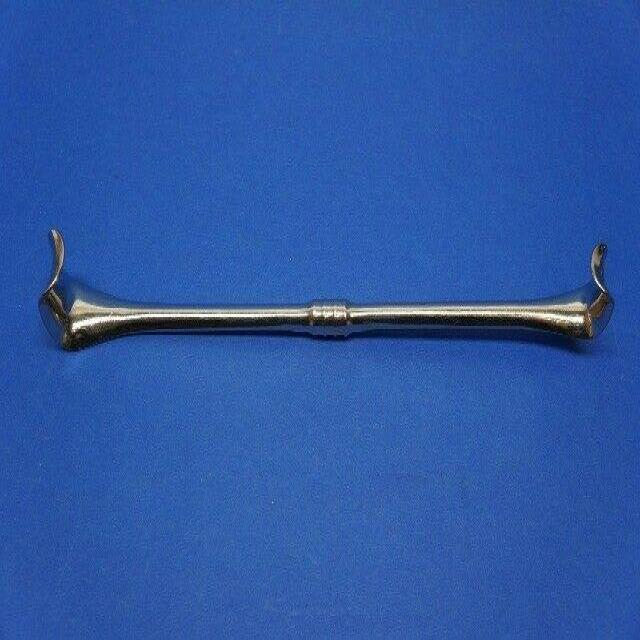Richardson: (39, 214, 615, 358)
